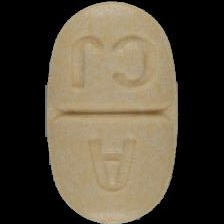54868-4869: (0, 0, 224, 224)
